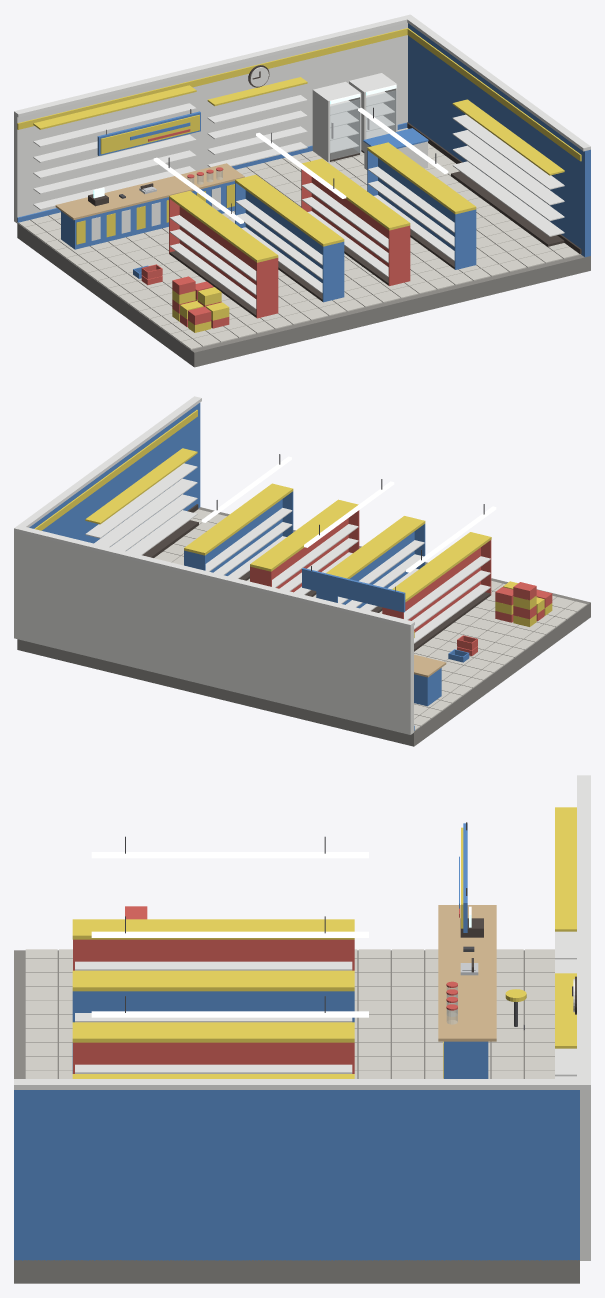
File: dublous.glb
3 views of the same model, one above another, from view 1: azimuth 30°, elevation 25°; view 2: azimuth 150°, elevation 25°; view 3: azimuth 270°, elevation 25° (orthographic). The views are drawn at different scales.
Parts seen in each view (by area): view 1: White, Tile, Blue, WallWhite, Yellow, Slab, Red, Dark, Wood, Glass, Tube; view 2: WallWhite, White, Blue, Yellow, Tile, Slab, Red, Tube, Dark, Wood; view 3: Blue, Tile, Yellow, White, Slab, Red, Wood, Tube, WallWhite.
Part boxes in pixels (x1,y1,x2,y2): White: (14, 14, 590, 309); Tile: (18, 128, 580, 349); Blue: (17, 23, 590, 302); WallWhite: (14, 22, 407, 223); Yellow: (17, 28, 581, 332); Slab: (17, 223, 590, 367); Red: (141, 129, 410, 328); Dark: (88, 65, 581, 317); Wood: (55, 163, 244, 219); Glass: (187, 90, 395, 186); Tube: (153, 107, 448, 223); WallWhite: (14, 531, 413, 734); White: (14, 396, 490, 643); Blue: (29, 403, 469, 730); Yellow: (34, 410, 552, 637); Tile: (154, 509, 586, 731); Slab: (17, 507, 590, 746); Red: (250, 510, 552, 655); Tube: (201, 456, 496, 572); Dark: (142, 504, 490, 651); Wood: (414, 654, 446, 677); Blue: (14, 823, 579, 1260); Tile: (25, 949, 554, 1078); Yellow: (72, 807, 576, 1078); White: (14, 775, 590, 1089); Slab: (14, 950, 579, 1283); Red: (73, 906, 459, 1073); Wood: (438, 905, 496, 1041); Tube: (91, 852, 368, 1017); WallWhite: (580, 1090, 590, 1260).
Size of the model in its own units: 13.2 by 3.95 by 10.4.
